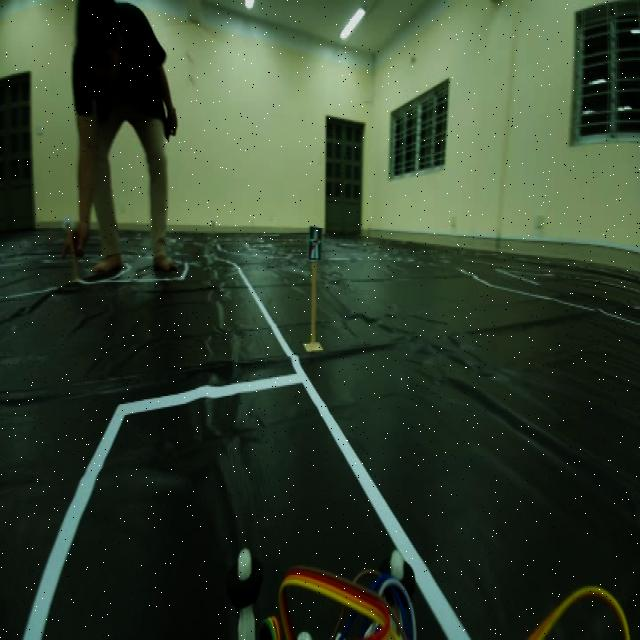highway_exit: (308, 217, 324, 271)
